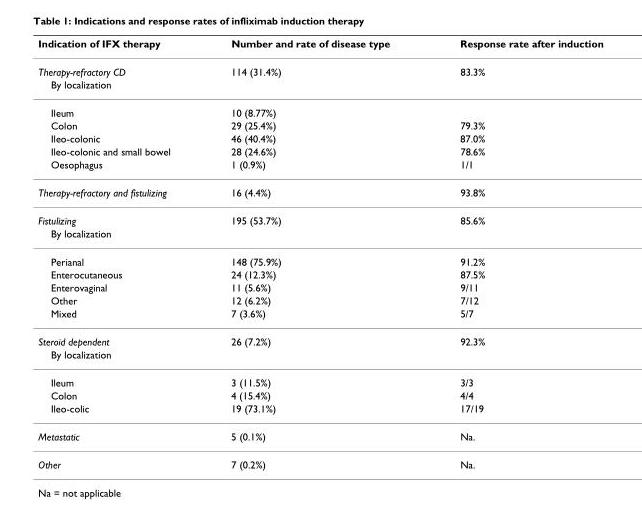table: (37, 36, 602, 470)
table column: (199, 36, 424, 470), (424, 36, 602, 470), (37, 36, 199, 470)
table column header: (37, 36, 602, 57)
table projected row header: (37, 77, 602, 98), (37, 226, 602, 247), (37, 347, 602, 368)
table row: (37, 178, 602, 206), (37, 422, 602, 450), (37, 36, 602, 57), (37, 77, 602, 98), (37, 157, 602, 178), (37, 226, 602, 247), (37, 306, 602, 327), (37, 347, 602, 368), (37, 401, 602, 422), (37, 57, 602, 77), (37, 98, 602, 118), (37, 206, 602, 226), (37, 247, 602, 267), (37, 327, 602, 347), (37, 368, 602, 388), (37, 450, 602, 470), (37, 118, 602, 131), (37, 131, 602, 144), (37, 144, 602, 157), (37, 267, 602, 280), (37, 280, 602, 293), (37, 293, 602, 306), (37, 388, 602, 401)
